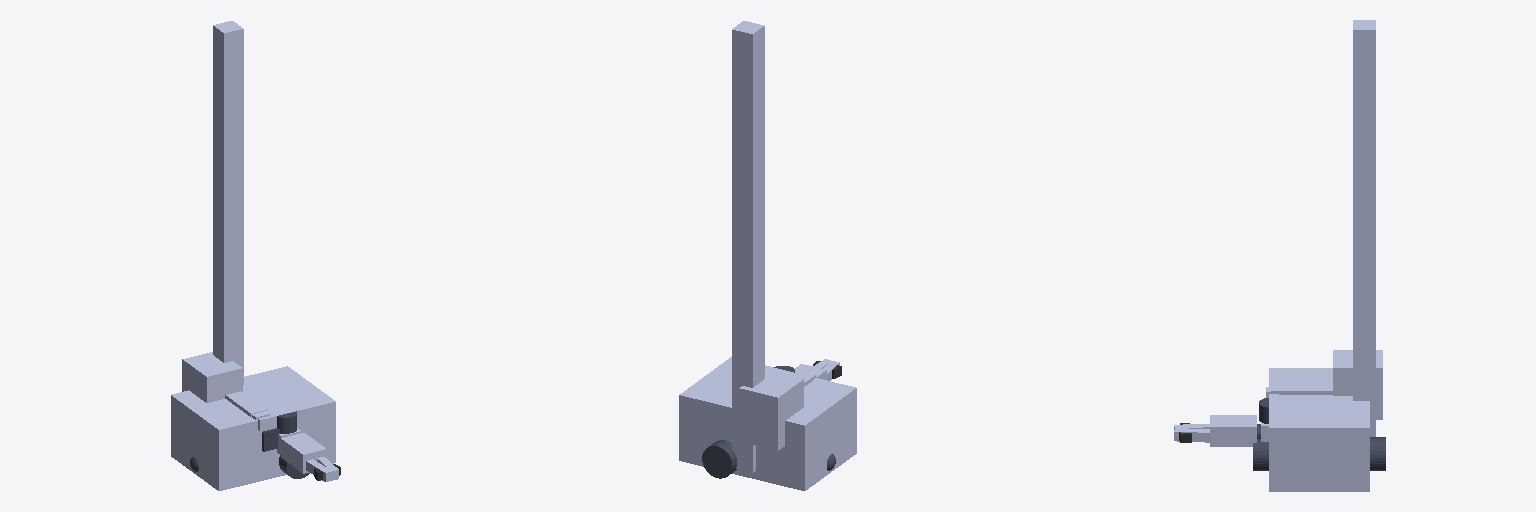
URDF robot description (stretch_sg3_minimal):
<?xml version="1.0"?>
<!--
  Lightweight fallback for the Hello Robot Stretch SE3 + SG3 description.

  This model preserves the controlled joint names, limits, origins, axes,
  masses, inertias, and link_grasp_center transform from the full generated
  Stretch URDF.  Primitive visual/collision geometry replaces the separately
  distributed mesh bundle so a release checkout can always construct the
  robot.  When the complete mesh bundle is installed, stretch_robot.py
  deliberately prefers it over this fallback.

  Derived from hello-robot/stretch_urdf (Clear BSD); see stretch.LICENSE.
-->
<robot name="stretch_sg3_minimal">
  <material name="stretch_body"><color rgba="0.79216 0.81961 0.93333 1"/></material>
  <material name="stretch_joint"><color rgba="0.32 0.35 0.42 1"/></material>
  <material name="stretch_tip"><color rgba="0.25 0.25 0.25 1"/></material>

  <link name="base_link">
    <inertial>
      <origin xyz="-0.087526 -0.001626 0.081009" rpy="0 0 0"/>
      <mass value="17.384389"/>
      <inertia ixx="0.160002" ixy="0.006758" ixz="0.004621" iyy="0.138068" iyz="0.002208" izz="0.228992"/>
    </inertial>
    <visual>
      <origin xyz="-0.055 0 0.105" rpy="0 0 0"/>
      <geometry><box size="0.42 0.30 0.21"/></geometry>
      <material name="stretch_body"/>
    </visual>
    <collision>
      <origin xyz="-0.055 0 0.105" rpy="0 0 0"/>
      <geometry><box size="0.42 0.30 0.21"/></geometry>
    </collision>
  </link>

  <link name="link_right_wheel">
    <inertial>
      <origin xyz="0 0 0.02765" rpy="0 0 0"/>
      <mass value="0.20773"/>
      <inertia ixx="0.000054" ixy="0" ixz="0" iyy="0.000054" iyz="0" izz="0.000051"/>
    </inertial>
    <visual><geometry><cylinder radius="0.0508" length="0.055"/></geometry><material name="stretch_joint"/></visual>
    <collision><geometry><cylinder radius="0.0508" length="0.055"/></geometry></collision>
  </link>
  <joint name="joint_right_wheel" type="continuous">
    <origin xyz="0 -0.17035 0.0508" rpy="-1.5708 0 0"/>
    <parent link="base_link"/><child link="link_right_wheel"/>
    <axis xyz="0 0 1"/>
    <dynamics damping="21.75" friction="10.48"/>
  </joint>

  <link name="link_left_wheel">
    <inertial>
      <origin xyz="0 0 -0.02765" rpy="0 0 0"/>
      <mass value="0.20773"/>
      <inertia ixx="0.000054" ixy="0" ixz="0" iyy="0.000054" iyz="0" izz="0.000051"/>
    </inertial>
    <visual><geometry><cylinder radius="0.0508" length="0.055"/></geometry><material name="stretch_joint"/></visual>
    <collision><geometry><cylinder radius="0.0508" length="0.055"/></geometry></collision>
  </link>
  <joint name="joint_left_wheel" type="continuous">
    <origin xyz="0 0.17035 0.0508" rpy="-1.5708 0 0"/>
    <parent link="base_link"/><child link="link_left_wheel"/>
    <axis xyz="0 0 1"/>
    <dynamics damping="21.75" friction="10.48"/>
  </joint>

  <link name="caster_link">
    <inertial>
      <origin xyz="0 0 0" rpy="0 0 0"/>
      <mass value="0.01"/>
      <inertia ixx="0.001" ixy="0" ixz="0" iyy="0.001" iyz="0" izz="0.001"/>
    </inertial>
    <visual><geometry><sphere radius="0.032"/></geometry><material name="stretch_joint"/></visual>
    <collision><geometry><sphere radius="0.032"/></geometry></collision>
  </link>
  <joint name="caster_joint" type="fixed">
    <origin xyz="-0.245 0 0.032" rpy="-1.5707963267948966 0 0"/>
    <parent link="base_link"/><child link="caster_link"/>
  </joint>

  <link name="link_mast">
    <inertial>
      <origin xyz="0.000337 0.722201 0.002652" rpy="0 0 0"/>
      <mass value="1.764017"/>
      <inertia ixx="0.291286" ixy="0.004149" ixz="-0.000174" iyy="0.001226" iyz="0.000354" izz="0.291429"/>
    </inertial>
    <visual><origin xyz="0 0.70 0"/><geometry><box size="0.07 1.40 0.07"/></geometry><material name="stretch_body"/></visual>
    <collision><origin xyz="0 0.70 0"/><geometry><box size="0.07 1.40 0.07"/></geometry></collision>
  </link>
  <joint name="joint_mast" type="fixed">
    <origin xyz="-0.067 0.135 0.0284" rpy="1.5708 0 0"/>
    <parent link="base_link"/><child link="link_mast"/>
  </joint>

  <link name="link_lift">
    <inertial>
      <origin xyz="-0.020369 0.03438 0.02236" rpy="0 0 0"/>
      <mass value="1.987167"/>
      <inertia ixx="0.006518" ixy="-0.001539" ixz="0.000371" iyy="0.004464" iyz="0.000392" izz="0.008092"/>
    </inertial>
    <visual><origin xyz="-0.02 0.03 0.02"/><geometry><box size="0.15 0.13 0.17"/></geometry><material name="stretch_body"/></visual>
    <collision><origin xyz="-0.02 0.03 0.02"/><geometry><box size="0.15 0.13 0.17"/></geometry></collision>
  </link>
  <joint name="joint_lift" type="prismatic">
    <origin xyz="-0.037385 0.1666 0" rpy="-1.5708 1.5708 0"/>
    <parent link="link_mast"/><child link="link_lift"/>
    <axis xyz="0 0 1"/>
    <limit effort="100" lower="0.0" upper="1.1" velocity="1.0"/>
  </joint>

  <link name="link_arm_l4">
    <inertial>
      <origin xyz="-0.000168 -0.000254 -0.125235" rpy="0 0 0"/>
      <mass value="0.235626"/>
      <inertia ixx="0.001518" ixy="-0.000001" ixz="0.000003" iyy="0.001519" iyz="0.000003" izz="0.000176"/>
    </inertial>
    <visual><origin xyz="0 0 -0.125"/><geometry><box size="0.055 0.055 0.25"/></geometry><material name="stretch_body"/></visual>
    <collision><origin xyz="0 0 -0.125"/><geometry><box size="0.055 0.055 0.25"/></geometry></collision>
  </link>
  <joint name="joint_arm_l4" type="fixed">
    <origin xyz="-0.2547 0 0" rpy="1.5708 0 -1.5708"/>
    <parent link="link_lift"/><child link="link_arm_l4"/>
  </joint>

  <link name="link_arm_l3">
    <inertial>
      <origin xyz="-0.000001 -0.000146 -0.11908" rpy="0 0 0"/>
      <mass value="0.146817"/>
      <inertia ixx="0.001081" ixy="0" ixz="0" iyy="0.001081" iyz="-0.000001" izz="0.000077"/>
    </inertial>
    <visual><origin xyz="0 0 -0.119"/><geometry><box size="0.048 0.048 0.238"/></geometry><material name="stretch_body"/></visual>
    <collision><origin xyz="0 0 -0.119"/><geometry><box size="0.048 0.048 0.238"/></geometry></collision>
  </link>
  <joint name="joint_arm_l3" type="prismatic">
    <origin xyz="0 0 0.013" rpy="0 0 0"/>
    <parent link="link_arm_l4"/><child link="link_arm_l3"/>
    <axis xyz="0 0 1"/><limit effort="100" lower="0.0" upper="0.13" velocity="1.0"/>
  </joint>

  <link name="link_arm_l2">
    <inertial>
      <origin xyz="0 -0.000071 -0.115635" rpy="0 0 0"/>
      <mass value="0.130565"/>
      <inertia ixx="0.000943" ixy="0" ixz="0" iyy="0.000943" iyz="0" izz="0.000057"/>
    </inertial>
    <visual><origin xyz="0 0 -0.116"/><geometry><box size="0.043 0.043 0.232"/></geometry><material name="stretch_body"/></visual>
    <collision><origin xyz="0 0 -0.116"/><geometry><box size="0.043 0.043 0.232"/></geometry></collision>
  </link>
  <joint name="joint_arm_l2" type="prismatic">
    <origin xyz="0 0 0.013" rpy="0 0 0"/>
    <parent link="link_arm_l3"/><child link="link_arm_l2"/>
    <axis xyz="0 0 1"/><limit effort="100" lower="0.0" upper="0.13" velocity="1.0"/>
  </joint>

  <link name="link_arm_l1">
    <inertial>
      <origin xyz="-0.000001 -0.000121 -0.113457" rpy="0 0 0"/>
      <mass value="0.113658"/>
      <inertia ixx="0.0008" ixy="0" ixz="0" iyy="0.0008" iyz="0" izz="0.00004"/>
    </inertial>
    <visual><origin xyz="0 0 -0.113"/><geometry><box size="0.038 0.038 0.226"/></geometry><material name="stretch_body"/></visual>
    <collision><origin xyz="0 0 -0.113"/><geometry><box size="0.038 0.038 0.226"/></geometry></collision>
  </link>
  <joint name="joint_arm_l1" type="prismatic">
    <origin xyz="0 0 0.013" rpy="0 0 0"/>
    <parent link="link_arm_l2"/><child link="link_arm_l1"/>
    <axis xyz="0 0 1"/><limit effort="100" lower="0.0" upper="0.13" velocity="1.0"/>
  </joint>

  <link name="link_arm_l0">
    <inertial>
      <origin xyz="0.033681 -0.000847 -0.031723" rpy="0 0 0"/>
      <mass value="0.427734"/>
      <inertia ixx="0.001689" ixy="-0.000028" ixz="0.000483" iyy="0.002107" iyz="-0.000011" izz="0.000571"/>
    </inertial>
    <visual><origin xyz="0 0 -0.11"/><geometry><box size="0.05 0.05 0.22"/></geometry><material name="stretch_body"/></visual>
    <collision><origin xyz="0 0 -0.11"/><geometry><box size="0.05 0.05 0.22"/></geometry></collision>
  </link>
  <joint name="joint_arm_l0" type="prismatic">
    <origin xyz="0 0 -0.01375" rpy="0 0 0"/>
    <parent link="link_arm_l1"/><child link="link_arm_l0"/>
    <axis xyz="0 0 1"/><limit effort="100" lower="0.0" upper="0.13" velocity="1.0"/>
  </joint>

  <link name="link_wrist_yaw">
    <inertial>
      <origin xyz="0 -0.000039 -0.016495" rpy="0 0 0"/>
      <mass value="0.054422"/>
      <inertia ixx="0.000009" ixy="0" ixz="0" iyy="0.000009" iyz="0" izz="0.000007"/>
    </inertial>
    <visual><origin xyz="0 0 -0.018"/><geometry><cylinder radius="0.035" length="0.055"/></geometry><material name="stretch_joint"/></visual>
    <collision><origin xyz="0 0 -0.018"/><geometry><cylinder radius="0.035" length="0.055"/></geometry></collision>
  </link>
  <joint name="joint_wrist_yaw" type="revolute">
    <origin xyz="0.083 -0.03075 0" rpy="-1.5707963267949 0 3.14159265358978"/>
    <parent link="link_arm_l0"/><child link="link_wrist_yaw"/>
    <axis xyz="0 0 -1"/><limit effort="100" lower="-1.75" upper="4.0" velocity="1.0"/>
  </joint>

  <link name="link_wrist_yaw_bottom">
    <inertial>
      <origin xyz="-0.01654 -0.044633 -0.028109" rpy="0 0 0"/>
      <mass value="0.144548635554334"/>
      <inertia ixx="0.0000456526" ixy="-0.00000108217" ixz="-0.0000000144384" iyy="0.0000722875" iyz="0.0000000034082" izz="0.0000876544"/>
    </inertial>
    <visual><origin xyz="-0.0165 -0.0446 -0.0281"/><geometry><box size="0.065 0.09 0.065"/></geometry><material name="stretch_joint"/></visual>
    <collision><origin xyz="-0.0165 -0.0446 -0.0281"/><geometry><box size="0.065 0.09 0.065"/></geometry></collision>
  </link>
  <joint name="joint_wrist_yaw_bottom" type="fixed">
    <origin xyz="0 0 0" rpy="-3.14159265358979 0 -1.5707963267949"/>
    <parent link="link_wrist_yaw"/><child link="link_wrist_yaw_bottom"/>
  </joint>

  <link name="link_wrist_pitch">
    <inertial>
      <origin xyz="-0.00071148 -0.0147443 0.0195141" rpy="0 0 0"/>
      <mass value="0.116590512374845"/>
      <inertia ixx="0.0000576205" ixy="-0.000000778648" ixz="-0.0000000286647" iyy="0.0000358444" iyz="0.00000106445" izz="0.0000636355"/>
    </inertial>
    <visual><origin xyz="0 -0.015 0.02"/><geometry><box size="0.06 0.065 0.075"/></geometry><material name="stretch_body"/></visual>
    <collision><origin xyz="0 -0.015 0.02"/><geometry><box size="0.06 0.065 0.075"/></geometry></collision>
  </link>
  <joint name="joint_wrist_pitch" type="revolute">
    <origin xyz="0 -0.019455 -0.0305" rpy="1.5708 0 3.1416"/>
    <parent link="link_wrist_yaw_bottom"/><child link="link_wrist_pitch"/>
    <axis xyz="0 0 -1"/><limit effort="100" lower="-1.57" upper="0.56" velocity="1.0"/>
  </joint>

  <link name="link_wrist_roll">
    <inertial>
      <origin xyz="0.000282867 0.000557473 0.0196635" rpy="0 0 0"/>
      <mass value="0.0221916689638078"/>
      <inertia ixx="0.00000220608" ixy="0.00000000301743" ixz="-0.0000000183537" iyy="0.00000291436" iyz="-0.0000000455097" izz="0.00000483731"/>
    </inertial>
    <visual><origin xyz="0 0 0.02"/><geometry><cylinder radius="0.027" length="0.055"/></geometry><material name="stretch_joint"/></visual>
    <collision><origin xyz="0 0 0.02"/><geometry><cylinder radius="0.027" length="0.055"/></geometry></collision>
  </link>
  <joint name="joint_wrist_roll" type="revolute">
    <origin xyz="-0.018859 -0.024 0.01955" rpy="3.1416 1.5708 0"/>
    <parent link="link_wrist_pitch"/><child link="link_wrist_roll"/>
    <axis xyz="0 0 1"/><limit effort="100" lower="-3.14" upper="3.14" velocity="1.0"/>
  </joint>

  <link name="link_gripper_s3_body">
    <inertial>
      <origin xyz="0.000296364 0.00742489 0.0440194" rpy="0 0 0"/>
      <mass value="0.288995995074102"/>
      <inertia ixx="0.000482695" ixy="-0.0000030203" ixz="0.000000673858" iyy="0.000213431" iyz="-0.0000195798" izz="0.000377638"/>
    </inertial>
    <visual><origin xyz="0 0.007 0.07"/><geometry><box size="0.085 0.065 0.14"/></geometry><material name="stretch_body"/></visual>
    <collision><origin xyz="0 0.007 0.07"/><geometry><box size="0.085 0.065 0.14"/></geometry></collision>
  </link>
  <joint name="joint_gripper_s3_body" type="fixed">
    <origin xyz="0 0 0.021" rpy="0 0 -3.14159265358975"/>
    <parent link="link_wrist_roll"/><child link="link_gripper_s3_body"/>
  </joint>

  <link name="link_gripper_finger_right">
    <inertial>
      <origin xyz="-0.107295 -0.00404012 0.0000786433" rpy="0 0 0"/>
      <mass value="0.0483698337858479"/>
      <inertia ixx="0.00000306035" ixy="-0.000000813968" ixz="-0.0000000604746" iyy="0.0000612307" iyz="-0.0000000181593" izz="0.000062467"/>
    </inertial>
    <visual><origin xyz="-0.105 -0.004 0"/><geometry><box size="0.21 0.026 0.032"/></geometry><material name="stretch_body"/></visual>
    <collision><origin xyz="-0.105 -0.004 0"/><geometry><box size="0.21 0.026 0.032"/></geometry></collision>
  </link>
  <joint name="joint_gripper_finger_right" type="revolute">
    <origin xyz="-0.0246929 0 0.0371909" rpy="-1.57079632679513 1.48789318732515 3.14159265358956"/>
    <parent link="link_gripper_s3_body"/><child link="link_gripper_finger_right"/>
    <axis xyz="0 0 1"/><limit effort="500" lower="-0.4" upper="0.4" velocity="1.0"/>
  </joint>

  <link name="link_gripper_fingertip_right">
    <inertial>
      <origin xyz="0 0 0.00812578" rpy="0 0 0"/>
      <mass value="0.00382162062525088"/>
      <inertia ixx="0.000000413412" ixy="0" ixz="0" iyy="0.000000413412" iyz="0" izz="0.000000708442"/>
    </inertial>
    <visual><origin xyz="0 0 0.008"/><geometry><box size="0.035 0.028 0.055"/></geometry><material name="stretch_tip"/></visual>
    <collision><origin xyz="0 0 0.008"/><geometry><box size="0.035 0.028 0.055"/></geometry></collision>
  </link>
  <joint name="joint_gripper_fingertip_right" type="fixed">
    <origin xyz="-0.1777845 -0.0106722 0" rpy="-1.5707963267949 0 0.261799387799172"/>
    <parent link="link_gripper_finger_right"/><child link="link_gripper_fingertip_right"/>
  </joint>

  <link name="link_gripper_finger_left">
    <inertial>
      <origin xyz="0.107295 -0.00404012 0.0000786443" rpy="0 0 0"/>
      <mass value="0.0483698266031602"/>
      <inertia ixx="0.00000306035" ixy="0.000000813968" ixz="0.0000000604787" iyy="0.0000612307" iyz="-0.0000000181597" izz="0.000062467"/>
    </inertial>
    <visual><origin xyz="0.105 -0.004 0"/><geometry><box size="0.21 0.026 0.032"/></geometry><material name="stretch_body"/></visual>
    <collision><origin xyz="0.105 -0.004 0"/><geometry><box size="0.21 0.026 0.032"/></geometry></collision>
  </link>
  <joint name="joint_gripper_finger_left" type="revolute">
    <origin xyz="0.0245029 0 0.0371909" rpy="-1.57079632679523 -1.48789318734672 -3.14159265358946"/>
    <parent link="link_gripper_s3_body"/><child link="link_gripper_finger_left"/>
    <axis xyz="0 0 -1"/><limit effort="500" lower="-0.4" upper="0.4" velocity="1.0"/>
  </joint>

  <link name="link_gripper_fingertip_left">
    <inertial>
      <origin xyz="0 0 0.00812578" rpy="0 0 0"/>
      <mass value="0.00382162054362131"/>
      <inertia ixx="0.000000413412" ixy="0" ixz="0" iyy="0.000000413412" iyz="0" izz="0.000000708442"/>
    </inertial>
    <visual><origin xyz="0 0 0.008"/><geometry><box size="0.035 0.028 0.055"/></geometry><material name="stretch_tip"/></visual>
    <collision><origin xyz="0 0 0.008"/><geometry><box size="0.035 0.028 0.055"/></geometry></collision>
  </link>
  <joint name="joint_gripper_fingertip_left" type="fixed">
    <origin xyz="0.1777845 -0.0106722 0" rpy="1.57079632679491 0 2.87979326579064"/>
    <parent link="link_gripper_finger_left"/><child link="link_gripper_fingertip_left"/>
  </joint>

  <link name="link_grasp_center"/>
  <joint name="joint_grasp_center" type="fixed">
    <origin xyz="0 0 0.23" rpy="-1.5707963267949 -1.5707963267948 0"/>
    <parent link="link_gripper_s3_body"/><child link="link_grasp_center"/>
  </joint>
</robot>

--- Render facts (derived) ---
Views: 3 orthographic renders of the robot side by side, from view 1: azimuth 30°, elevation 25°; view 2: azimuth 150°, elevation 25°; view 3: azimuth 270°, elevation 25°.
Model stretch_sg3_minimal with 21 links and 20 joints (5 revolute, 2 continuous, 5 prismatic, 8 fixed), rooted at base_link, posed every joint at zero.
Visible links, largest first — view 1: base_link, link_mast, link_lift, link_gripper_s3_body; view 2: link_mast, base_link, link_lift, link_left_wheel; view 3: base_link, link_mast, link_gripper_s3_body, link_lift, link_arm_l4, link_left_wheel.
Link boxes in pixels (x1,y1,x2,y2): base_link: [171, 366, 335, 490]; link_mast: [213, 21, 243, 384]; link_lift: [182, 352, 242, 402]; link_gripper_s3_body: [281, 433, 326, 473]; link_mast: [732, 21, 764, 472]; base_link: [679, 357, 856, 490]; link_lift: [739, 369, 803, 450]; link_left_wheel: [702, 440, 736, 478]; base_link: [1269, 368, 1369, 491]; link_mast: [1353, 20, 1375, 436]; link_gripper_s3_body: [1210, 415, 1256, 446]; link_lift: [1333, 350, 1382, 419]; link_arm_l4: [1279, 383, 1332, 394]; link_left_wheel: [1370, 437, 1385, 470].
Size in the robot's own frame: 0.432 by 0.6305 by 1.43 metres.
Geometry: primitives only (box / cylinder / sphere), no mesh files.
